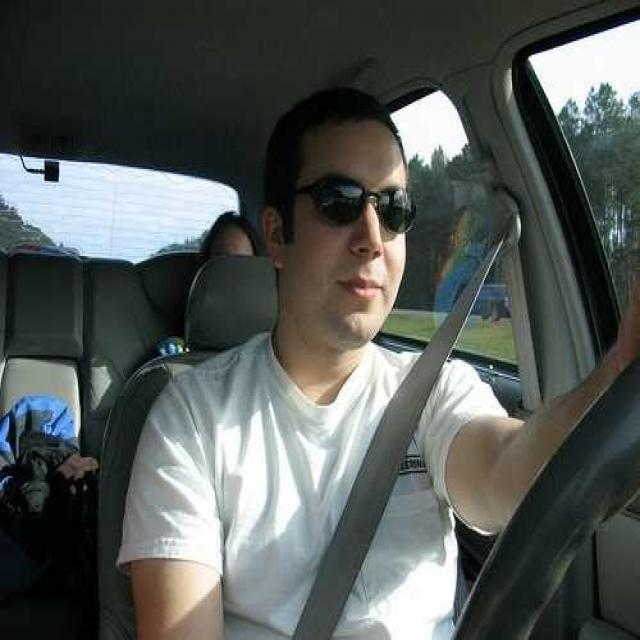seatbelt: (330, 213, 522, 550)
